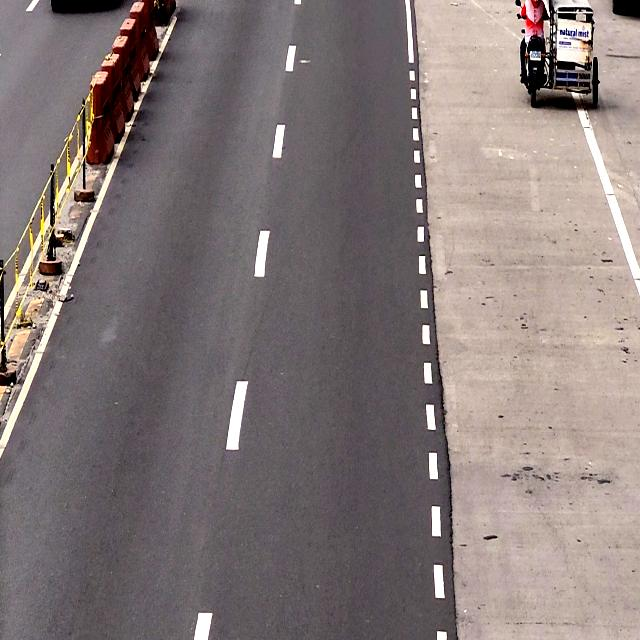License-Plate: (529, 48, 543, 63)
Tricycle: (524, 0, 597, 101)
